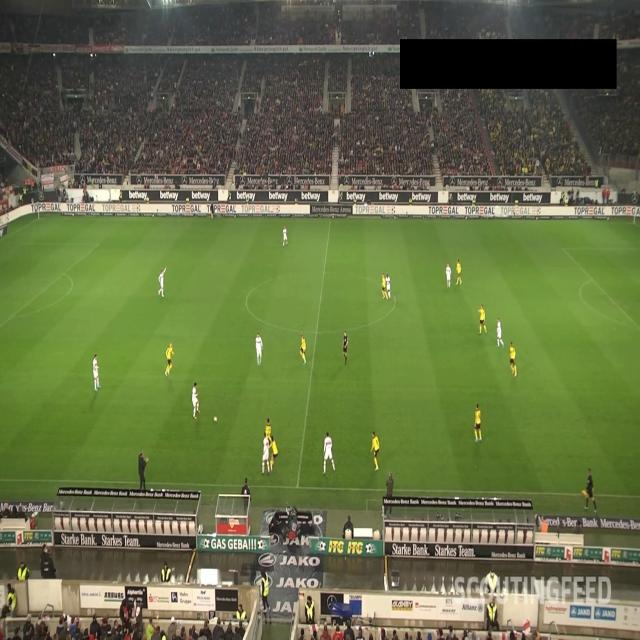ball: (213, 416, 218, 422)
